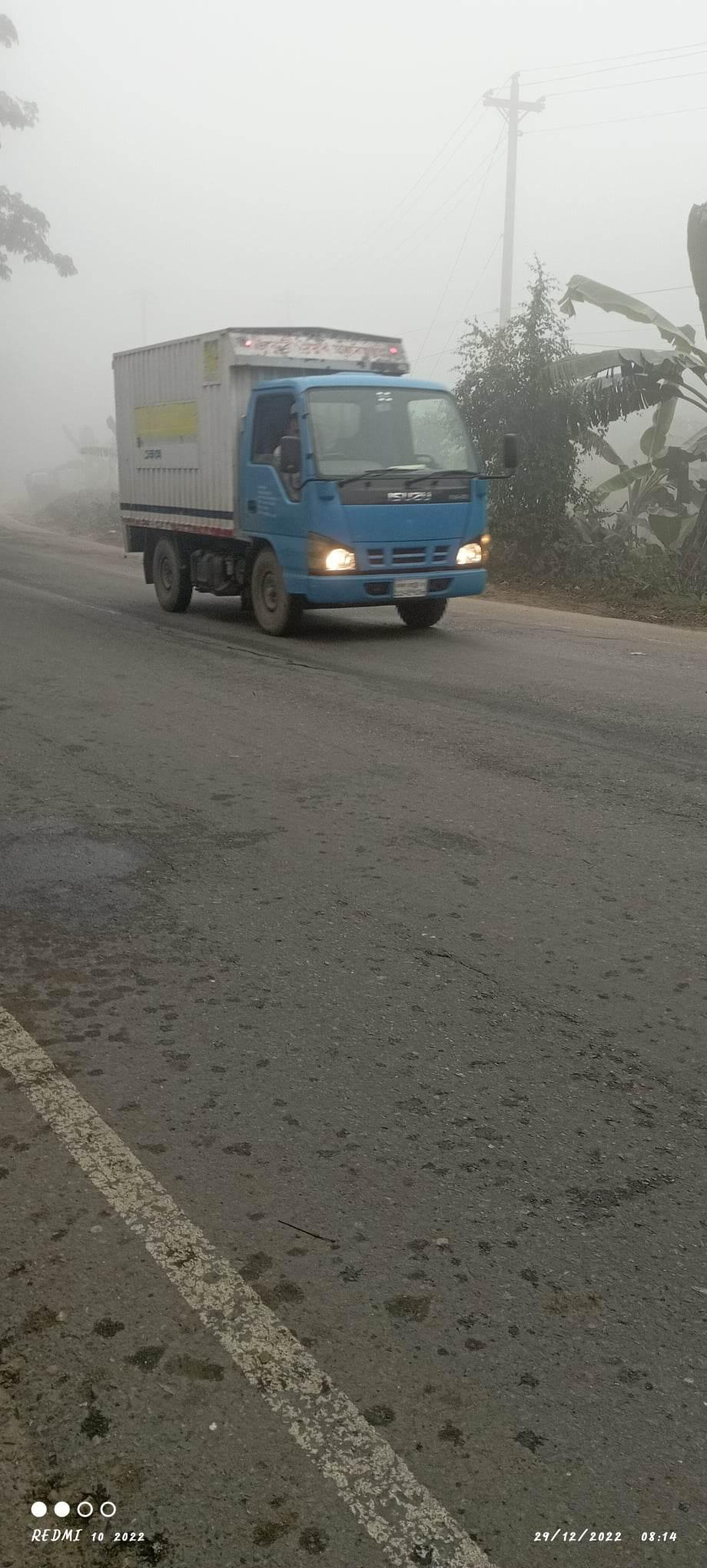Truck: (85, 300, 526, 677)
